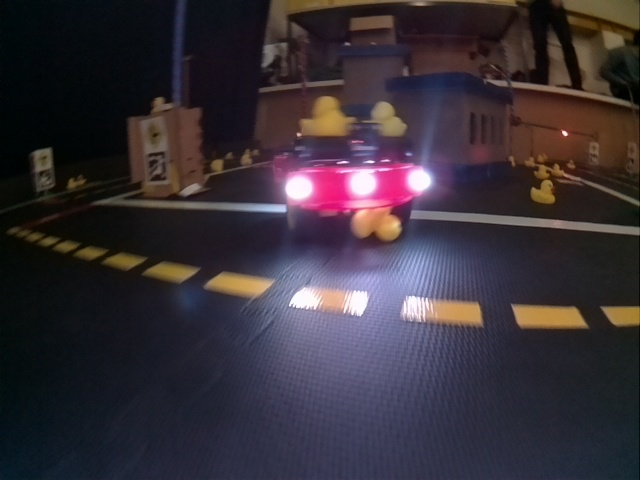Duckie: (300, 97, 347, 135), (352, 208, 401, 241), (370, 103, 405, 135), (531, 180, 556, 204), (151, 97, 174, 112)
Duckiebot: (273, 138, 428, 228)
Intersection sign: (141, 121, 165, 147)
QR code: (145, 152, 166, 183)
